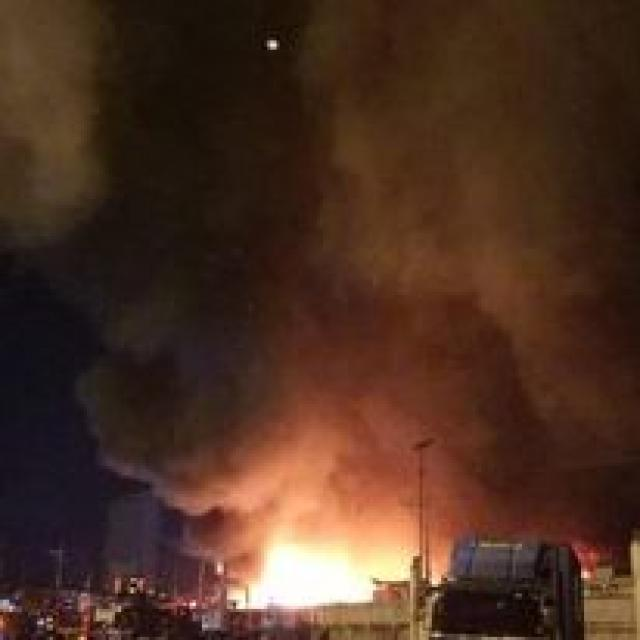Fire: (233, 522, 416, 610)
Smoke: (0, 106, 530, 572), (279, 0, 640, 492)
